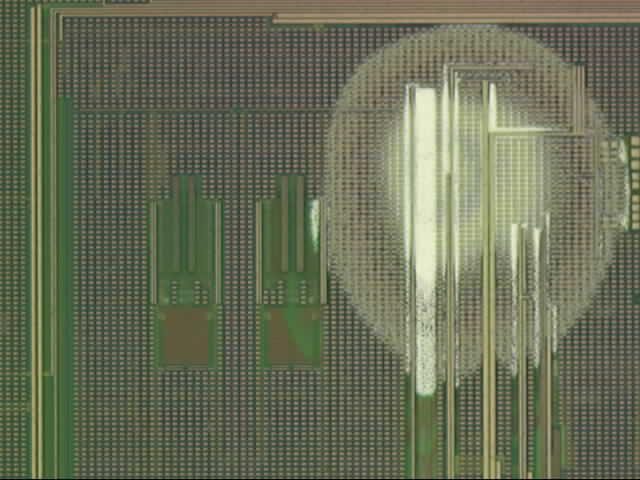BLOCK ETCH: (309, 18, 632, 399)
